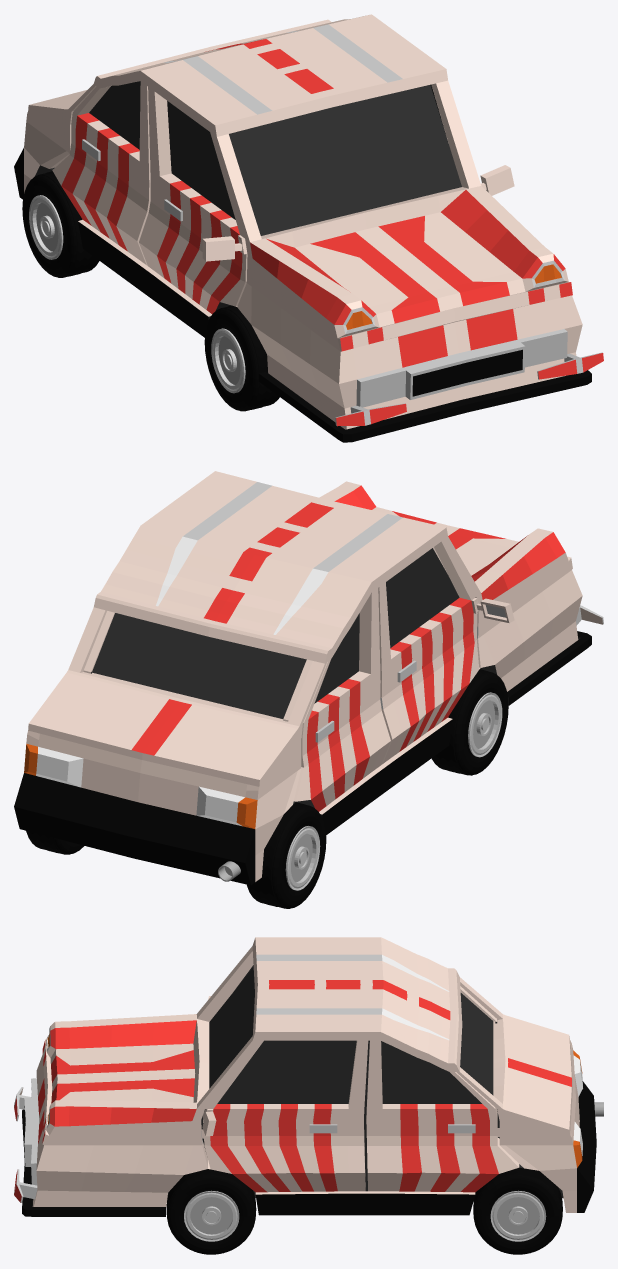
3 views of the same model, one above another, from view 1: azimuth 30°, elevation 25°; view 2: azimuth 150°, elevation 25°; view 3: azimuth 270°, elevation 25° (orthographic). The views are drawn at different scales.
Parts seen in each view (by area): view 1: BODY, WHEEL.001, WHEEL.004; view 2: BODY, WHEEL.004, WHEEL.001, WHEEL.002; view 3: BODY, WHEEL.002, WHEEL.003.
Boxes of the visible parts, x1,y1,x2,y2 form: BODY: (14, 14, 603, 442); WHEEL.001: (204, 305, 279, 411); WHEEL.004: (22, 171, 99, 277); BODY: (14, 471, 603, 885); WHEEL.004: (247, 802, 326, 908); WHEEL.001: (431, 669, 508, 775); WHEEL.002: (26, 831, 84, 854); BODY: (14, 937, 596, 1216); WHEEL.002: (473, 1167, 562, 1254); WHEEL.003: (166, 1169, 256, 1254).
Size of the model in its own units: 131 by 106 by 257.
